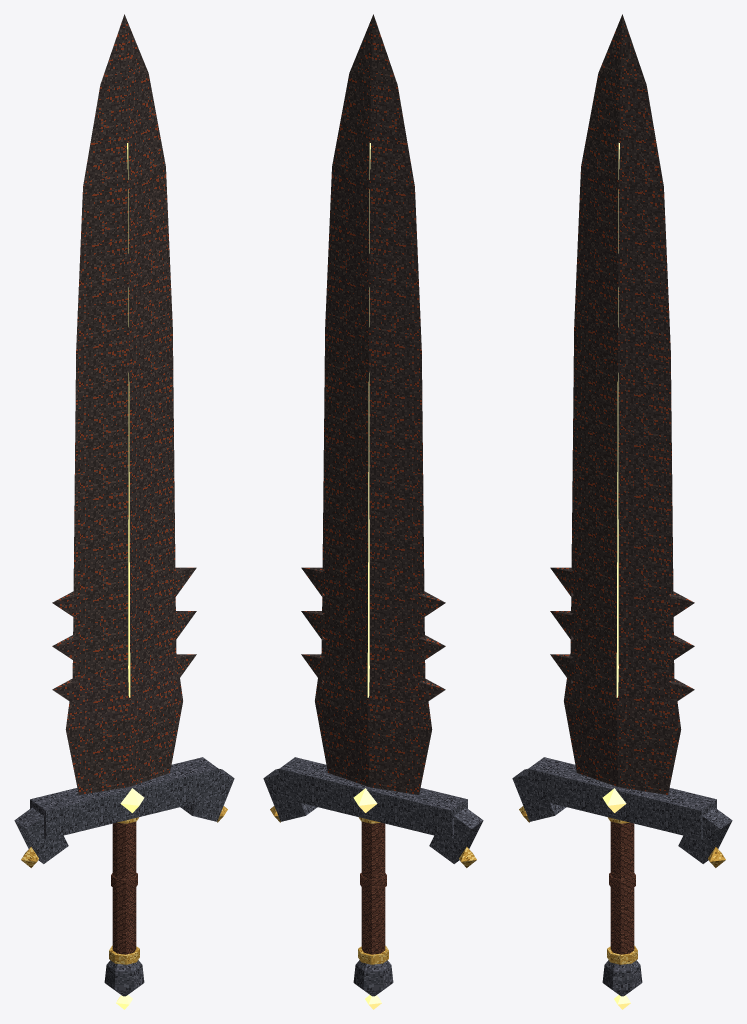
Rendered from greatsword_emberfang.glb.
The picture shows the model from 3 angles, left to right: view 1: azimuth 30°, elevation 25°; view 2: azimuth 150°, elevation 25°; view 3: azimuth 330°, elevation 25°; orthographic projection.
Parts seen in each view (by area): view 1: Body; view 2: Body; view 3: Body.
Boxes of the visible parts, bbox=[...] form: Body: bbox=[14, 14, 234, 1009]; Body: bbox=[263, 14, 483, 1009]; Body: bbox=[512, 14, 732, 1009].
Bounding box in the file's own units: 0.6032 × 2.75 × 0.15.
Materials: 5 (4 with a texture image).
